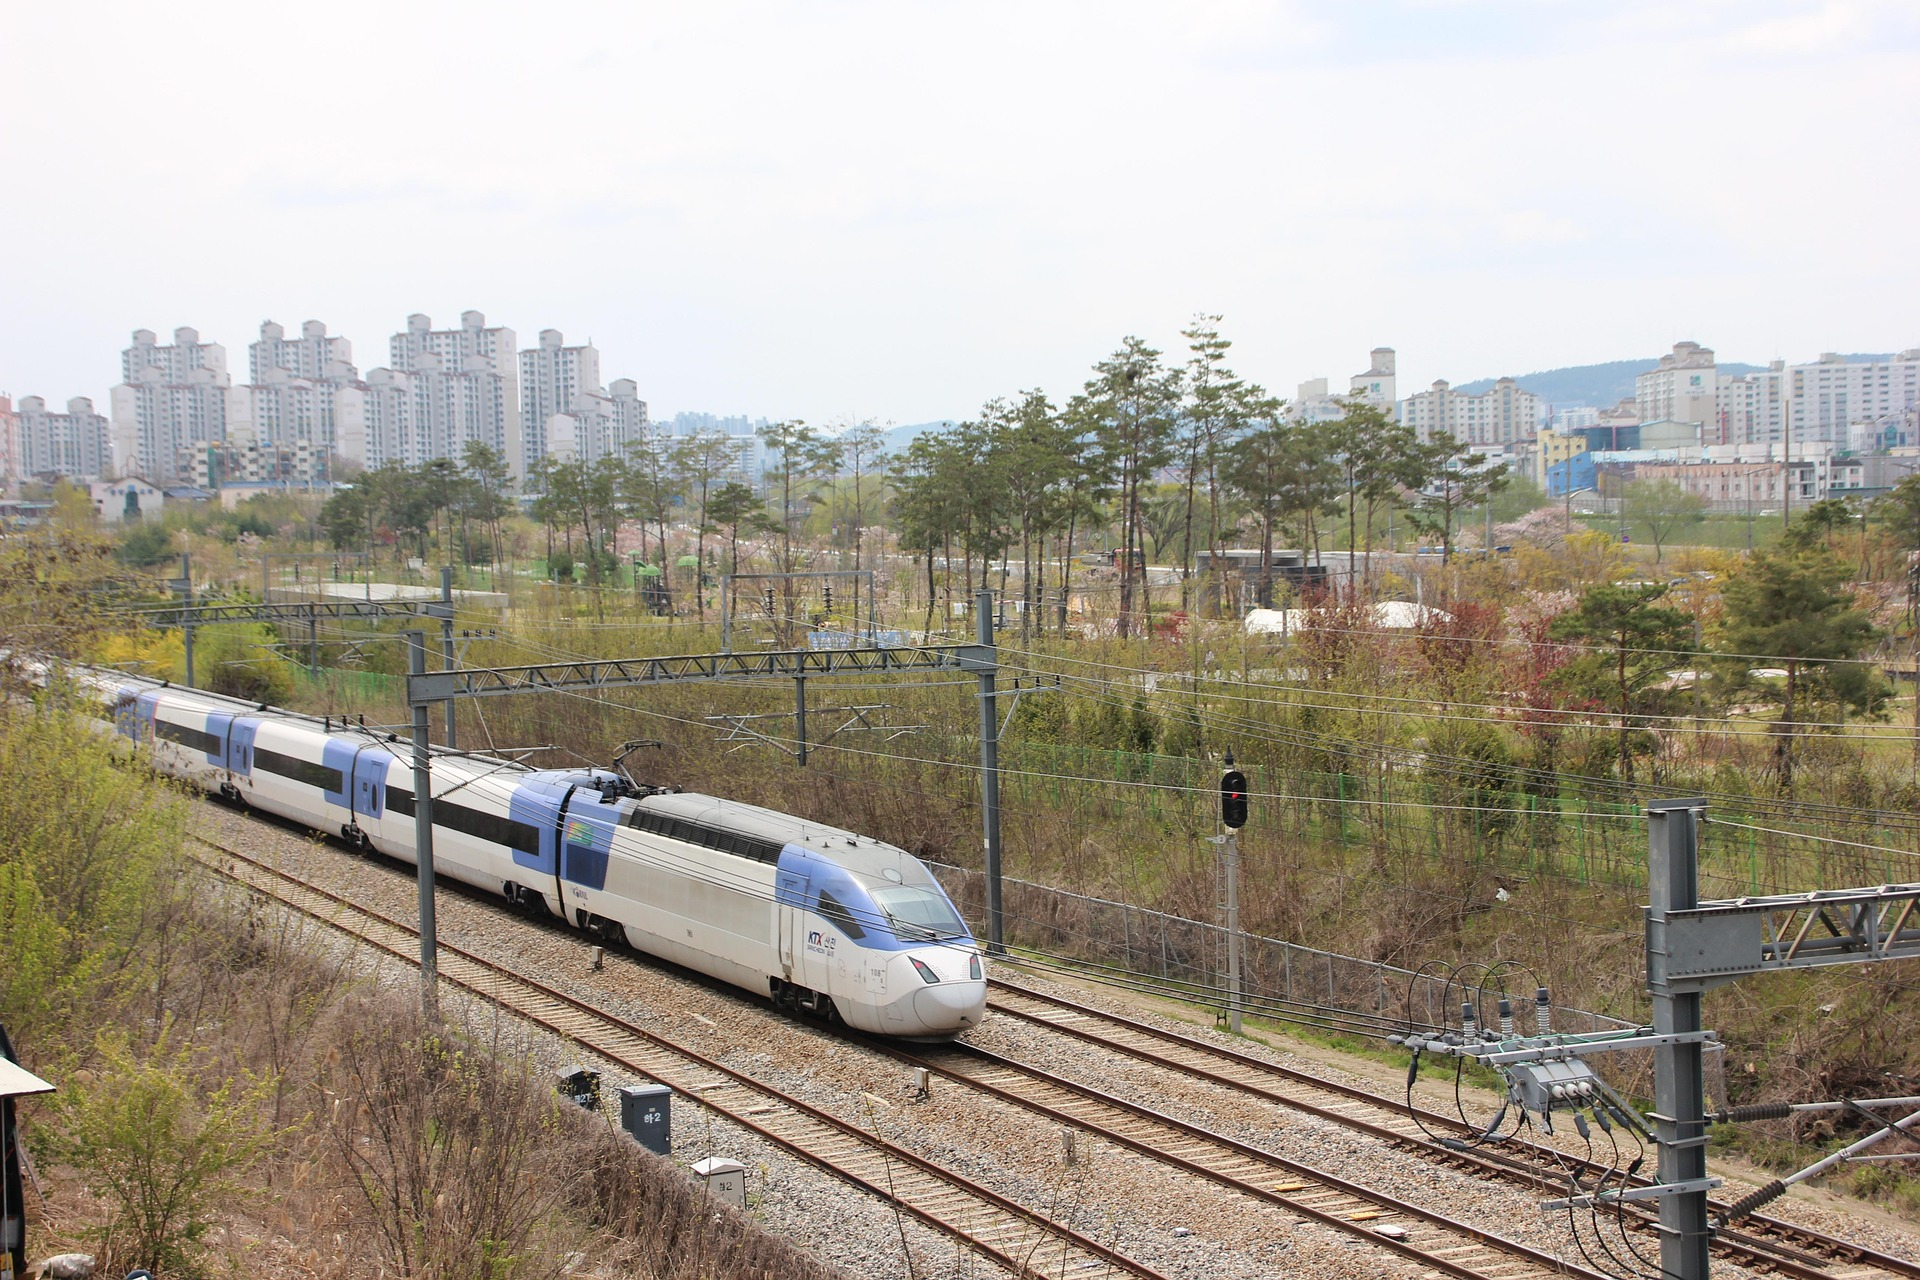train1: (70, 673, 993, 1043)
